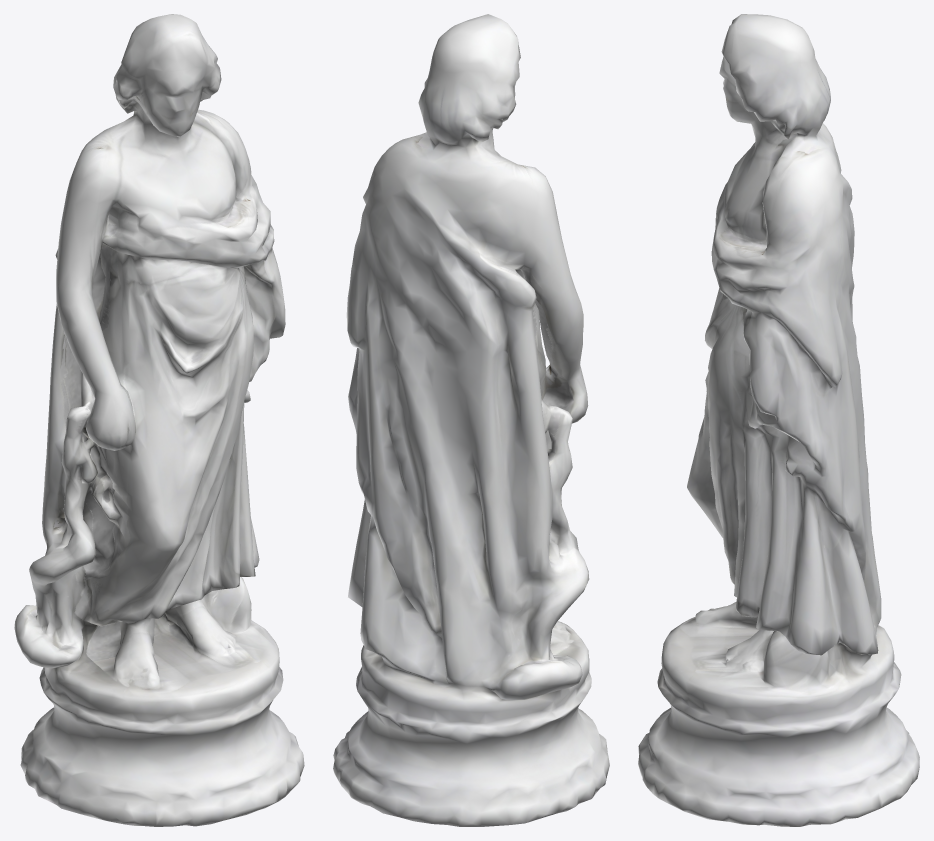
The model's file is Marble_Philosopher_0516155147_texture.glb.
3 views of the same model, side by side, from view 1: azimuth 30°, elevation 25°; view 2: azimuth 150°, elevation 25°; view 3: azimuth 270°, elevation 25° (orthographic).
Bounding box in the file's own units: 0.6757 × 2 × 0.68.
1 material, 1 textured.
